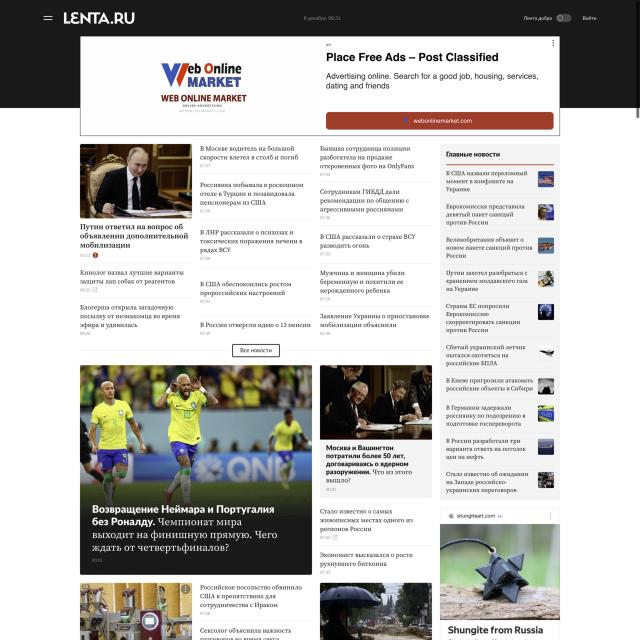logo: (60, 8, 140, 28)
navigation: (40, 10, 56, 25)
